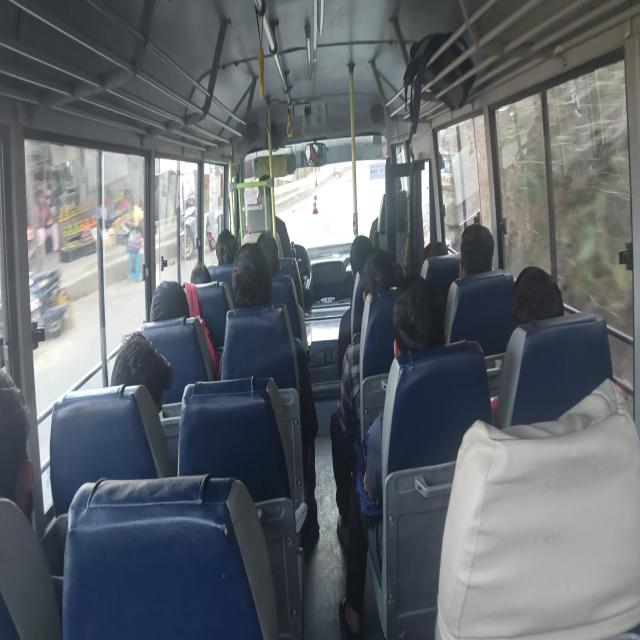person: (0, 359, 44, 512), (133, 336, 182, 440), (517, 263, 569, 352), (385, 274, 432, 366), (449, 225, 496, 308), (234, 244, 276, 324), (364, 253, 402, 311), (157, 274, 186, 333), (344, 239, 378, 279), (213, 225, 249, 258), (254, 221, 284, 260), (190, 256, 215, 297), (422, 238, 447, 260)
